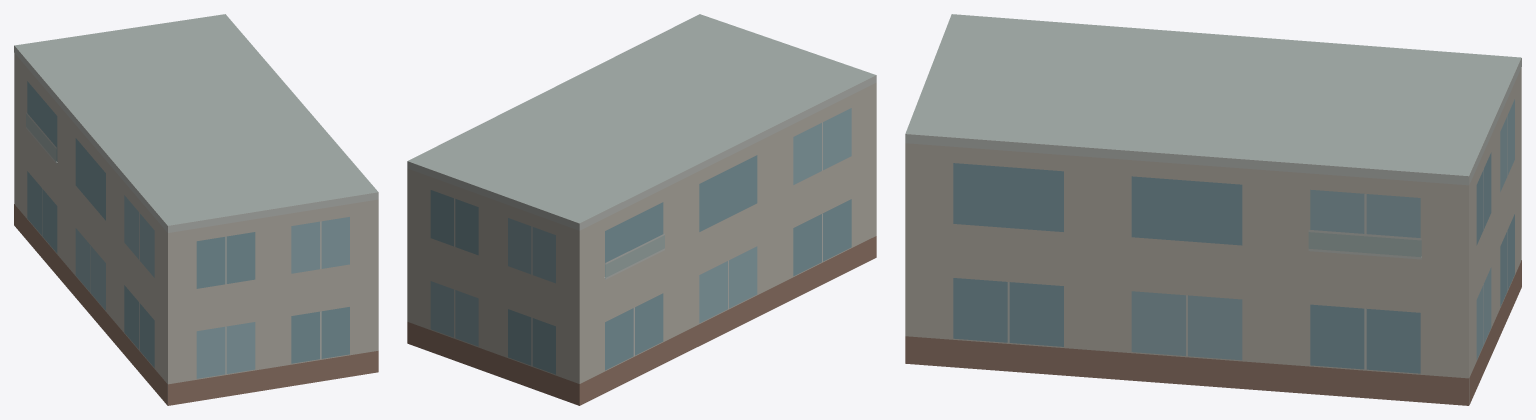
The model's file is survey-upis-32956513.glb.
The picture shows the model from 3 angles, left to right: view 1: azimuth 30°, elevation 25°; view 2: azimuth 150°, elevation 25°; view 3: azimuth 270°, elevation 25°; orthographic projection. The views are drawn at different scales.
Parts seen in each view (by area): view 1: survey-upis-32956513.tmp; view 2: survey-upis-32956513.tmp; view 3: survey-upis-32956513.tmp.
Part boxes in pixels (x1,y1,x2,y2): survey-upis-32956513.tmp: (14, 14, 378, 405); survey-upis-32956513.tmp: (407, 14, 876, 405); survey-upis-32956513.tmp: (905, 14, 1521, 405).
Size of the model in its own units: 9.25 by 6.1 by 14.85.
